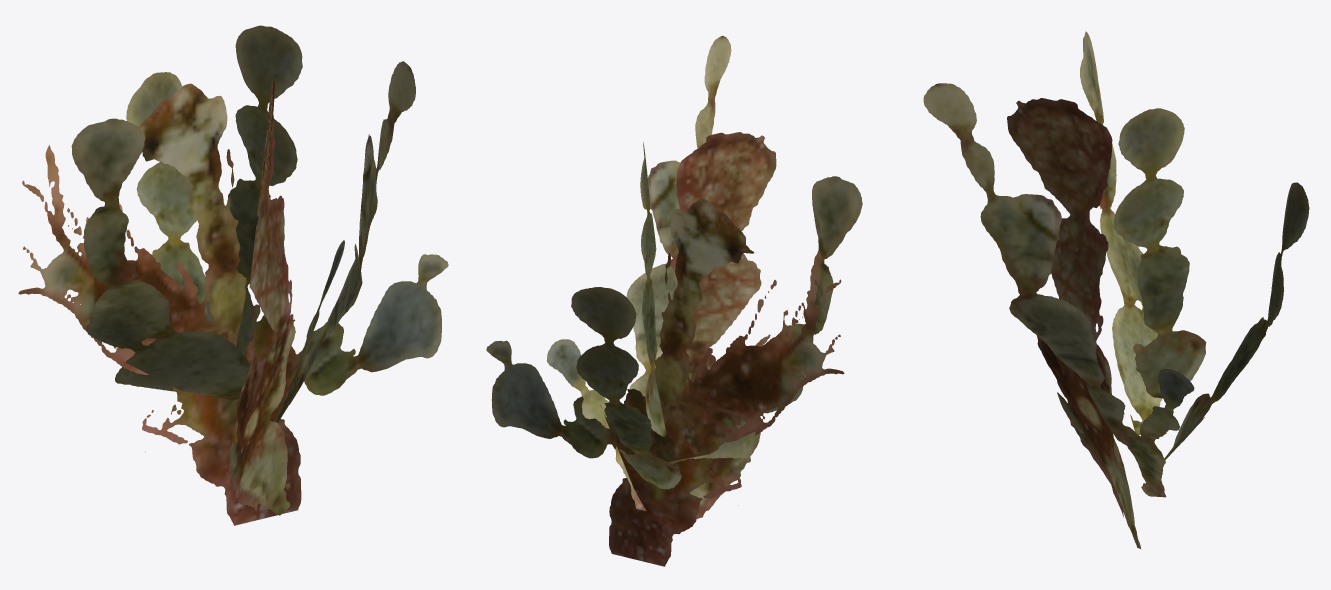
File: seaweed_3_6.FBX
3 views of the same model, side by side, from view 1: azimuth 30°, elevation 25°; view 2: azimuth 150°, elevation 25°; view 3: azimuth 270°, elevation 25° (orthographic). The views are drawn at different scales.
Parts seen in each view (by area): view 1: seaweed_3_06; view 2: seaweed_3_06; view 3: seaweed_3_06.
Part boxes in pixels (bbox=[...]): seaweed_3_06: bbox=[18, 25, 448, 525]; seaweed_3_06: bbox=[486, 35, 862, 566]; seaweed_3_06: bbox=[923, 31, 1309, 548].
Size of the model in its own units: 12.09 by 14.91 by 10.84.
1 material, 1 textured.
